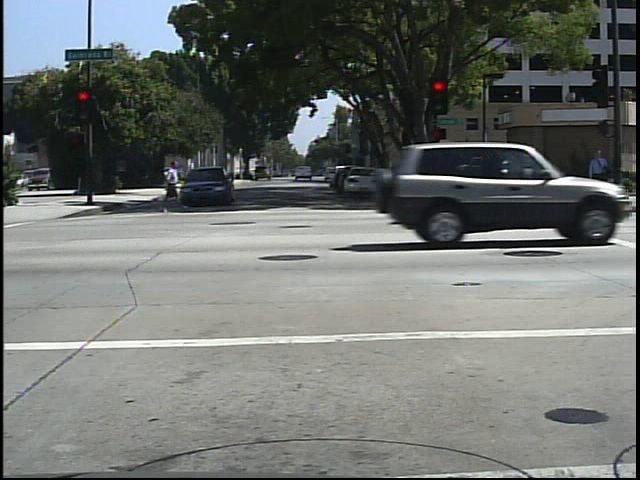person: (156, 155, 186, 213), (588, 143, 618, 185)
